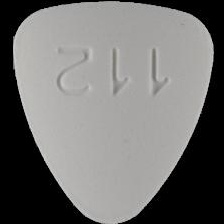61786-220: (0, 0, 224, 224)
